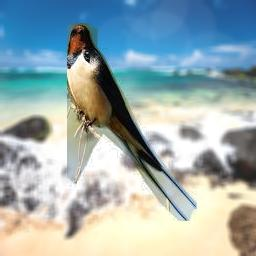Swallow: (67, 23, 197, 221)
